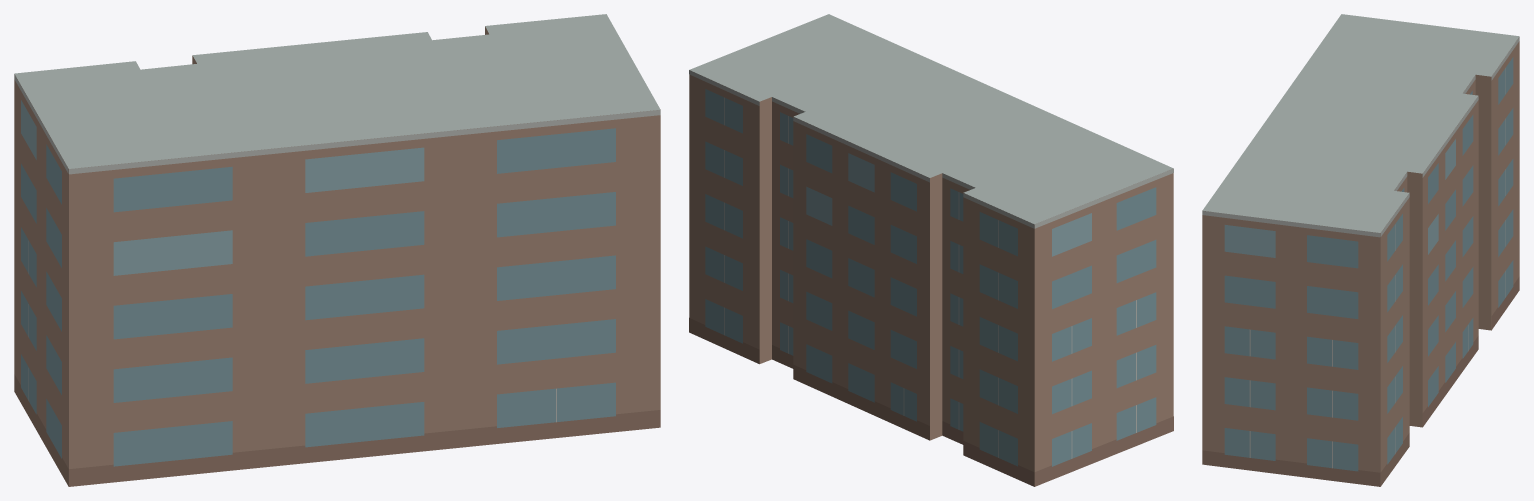
File: survey-upis-32872739.glb
3 renders of one model, left to right at view 1: azimuth 30°, elevation 25°; view 2: azimuth 150°, elevation 25°; view 3: azimuth 270°, elevation 25°, orthographic. The views are drawn at different scales.
Visible parts, largest first — view 1: survey-upis-32872739.tmp; view 2: survey-upis-32872739.tmp; view 3: survey-upis-32872739.tmp.
Part boxes in pixels (<box>): survey-upis-32872739.tmp: <box>14,14,660,486</box>; survey-upis-32872739.tmp: <box>689,14,1173,486</box>; survey-upis-32872739.tmp: <box>1202,14,1519,486</box>.
Size of the model in its own units: 26.48 by 14.3 by 16.22.
